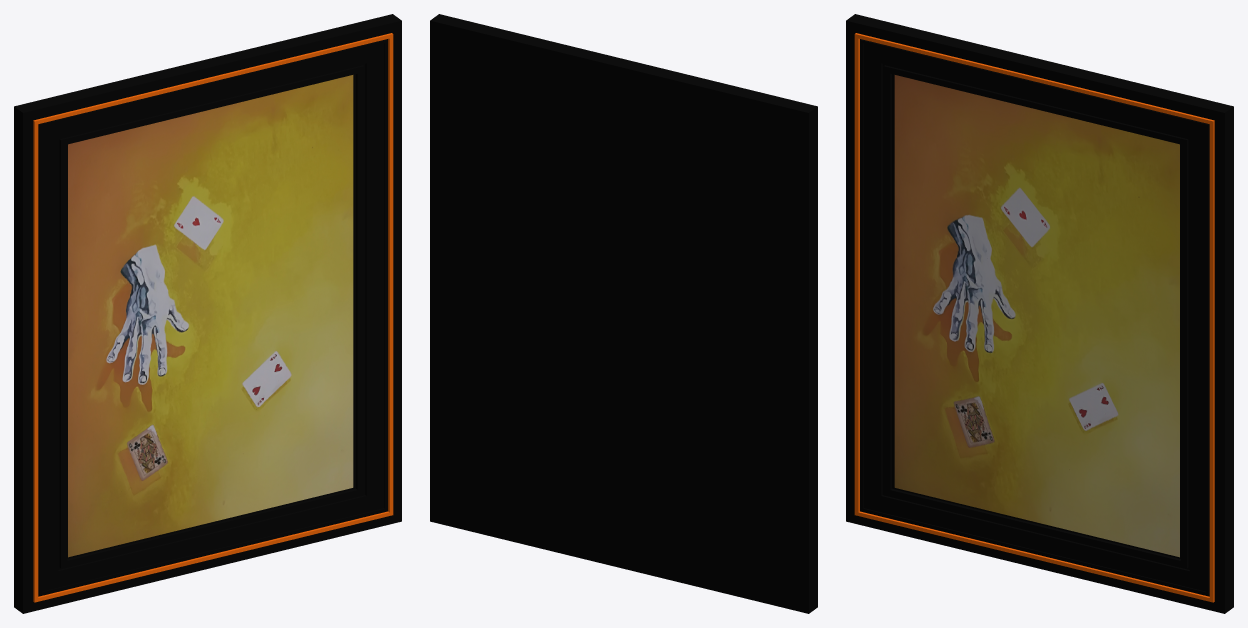
File: painting.obj
3 views of the same model, side by side, from view 1: azimuth 30°, elevation 25°; view 2: azimuth 150°, elevation 25°; view 3: azimuth 330°, elevation 25° (orthographic).
Visible parts, largest first — view 1: Painting; view 2: Painting; view 3: Painting.
Boxes of the visible parts, box(x1,y1,x2,y2) form: Painting: box(14, 14, 401, 613); Painting: box(430, 14, 817, 613); Painting: box(846, 14, 1233, 613).
Size of the model in its own units: 5.53 by 6.99 by 0.2648.
Materials: 3 (1 with a texture image).
